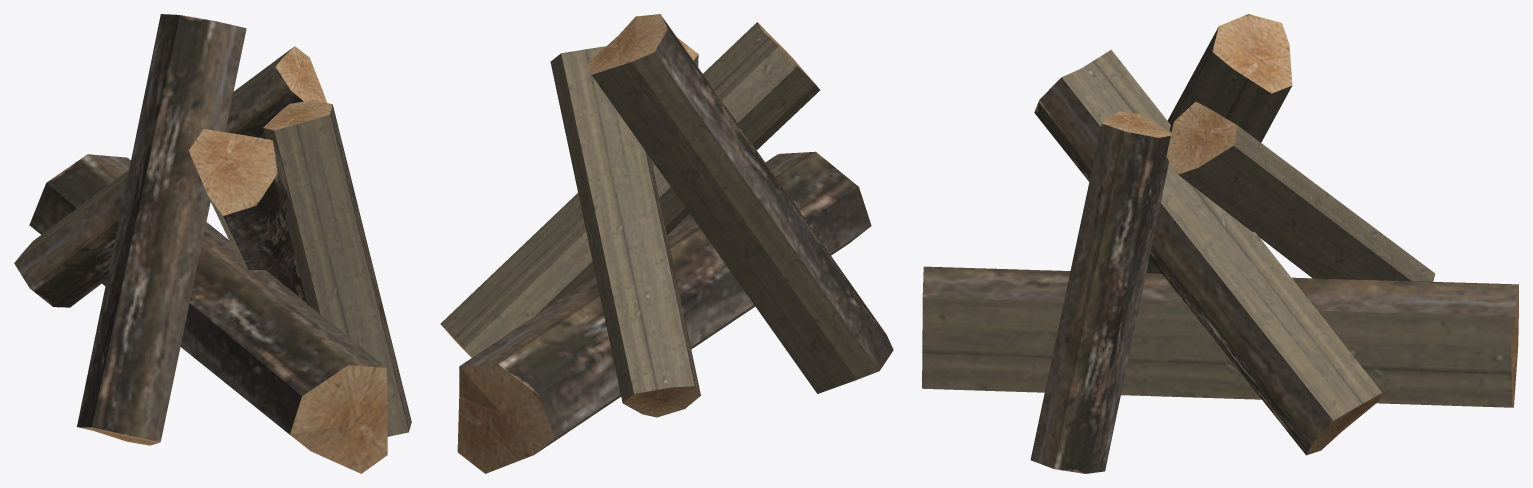
File: Campfire.glb
3 views of the same model, side by side, from view 1: azimuth 30°, elevation 25°; view 2: azimuth 150°, elevation 25°; view 3: azimuth 270°, elevation 25° (orthographic). The views are drawn at different scales.
Parts seen in each view (by area): view 1: Log.004, Log.003, Log, Log.002, Log.001; view 2: Log.004, Log.003, Log.002, Log.001; view 3: Log.003, Log.001, Log, Log.002, Log.004.
Part boxes in pixels (<box>): Log.004: <box>77,14,246,445</box>; Log.003: <box>29,154,387,473</box>; Log: <box>263,100,411,436</box>; Log.002: <box>14,46,326,307</box>; Log.001: <box>189,129,306,302</box>; Log.004: <box>587,14,893,393</box>; Log.003: <box>457,151,871,473</box>; Log.002: <box>550,46,700,417</box>; Log.001: <box>440,22,820,357</box>; Log.003: <box>922,266,1518,407</box>; Log.001: <box>1034,49,1381,455</box>; Log: <box>1030,111,1171,473</box>; Log.002: <box>1166,101,1435,281</box>; Log.004: <box>1146,14,1292,273</box>.
Size of the model in its own units: 1.85 by 2.01 by 2.73.
1 material, 1 textured.
